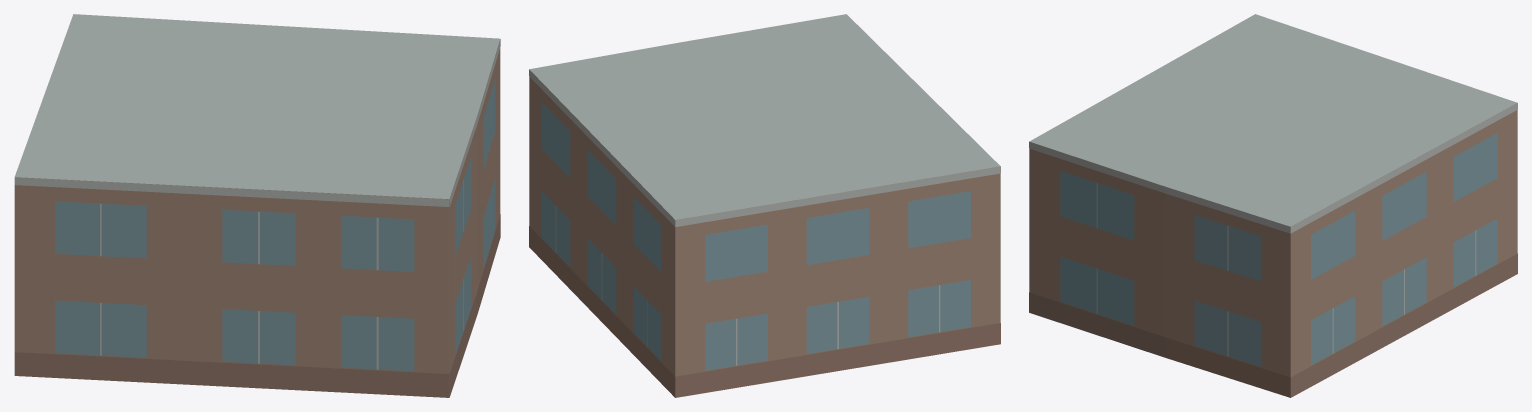
Rendered from survey-upis-32850849.glb.
3 views of the same model, side by side, from view 1: azimuth 30°, elevation 25°; view 2: azimuth 150°, elevation 25°; view 3: azimuth 270°, elevation 25° (orthographic). The views are drawn at different scales.
Visible parts, largest first — view 1: survey-upis-32850849.tmp; view 2: survey-upis-32850849.tmp; view 3: survey-upis-32850849.tmp.
Boxes of the visible parts, x1,y1,x2,y2 form: survey-upis-32850849.tmp: (14, 14, 500, 397); survey-upis-32850849.tmp: (529, 14, 1000, 397); survey-upis-32850849.tmp: (1029, 14, 1517, 397).
Bounding box in the file's own units: 16.28 × 6.1 × 15.8.
